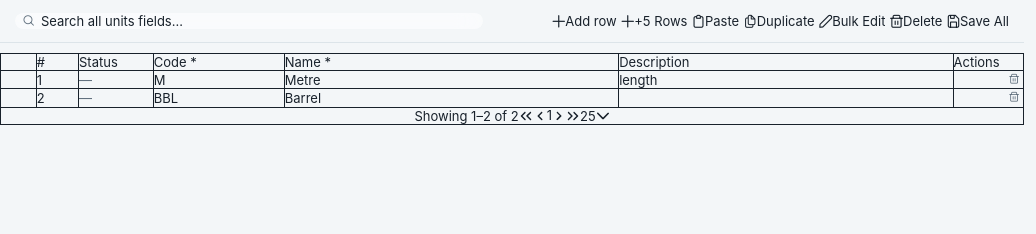
ExcelGrid › adds five blank rows at once and reports the unsaved count
The image size is (1036, 234).
Click the button "+5 Rows".
click(654, 21)  # box 621,13 -> 688,29
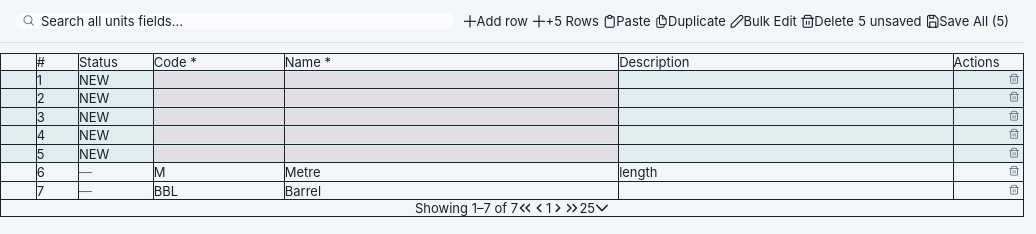
Check: the element with test id "dirty-count" reads "5 unsaved", box 858,13 -> 922,29
